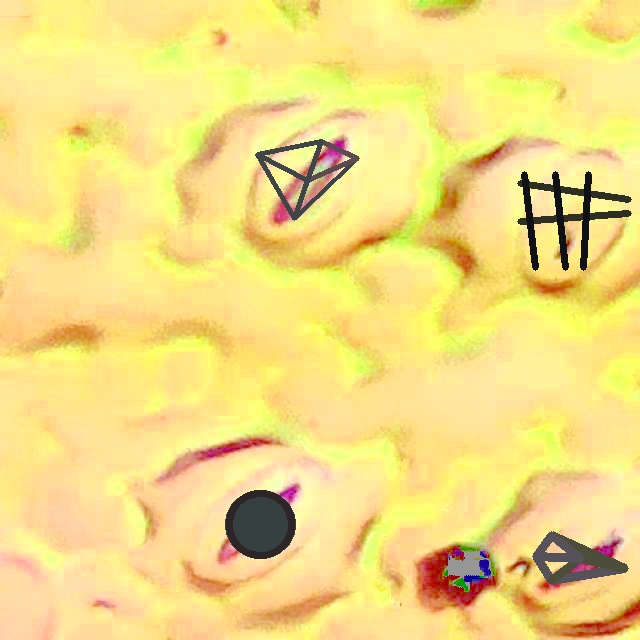close: (517, 171, 631, 270)
open: (255, 139, 359, 220), (532, 531, 628, 584), (225, 490, 295, 557)
